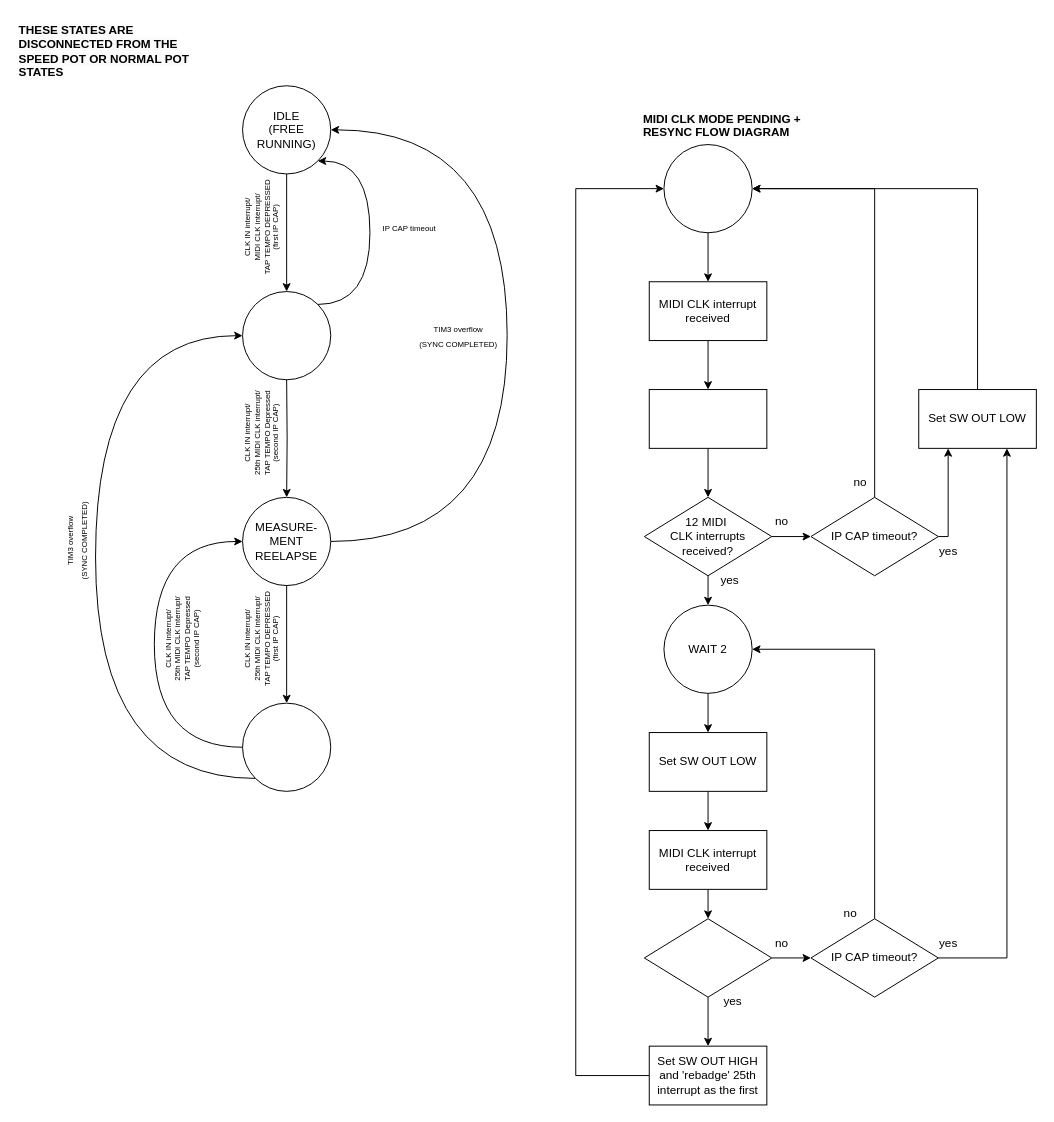
Image size: 1054x1122. Some labels were removed from this diagram. The shapes that lost their labels are listed below. From the top down, each one's centre as x and y in pixels, then its label:
At [707,188]: "WAIT 1".
At [286,335]: "MEASURE-MENT PENDING".
At [707,418]: "Set SW OUT HIGH".
At [286,746]: "MEASURE-MENT REELAPSE + NEW MEASURE- MENT".
At [707,957]: "25 MIDI CLK interrupts received?".
